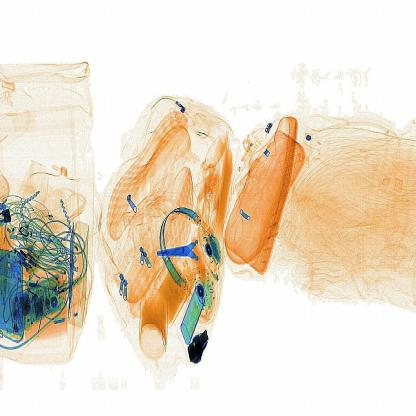gun: (153, 226, 220, 277)
